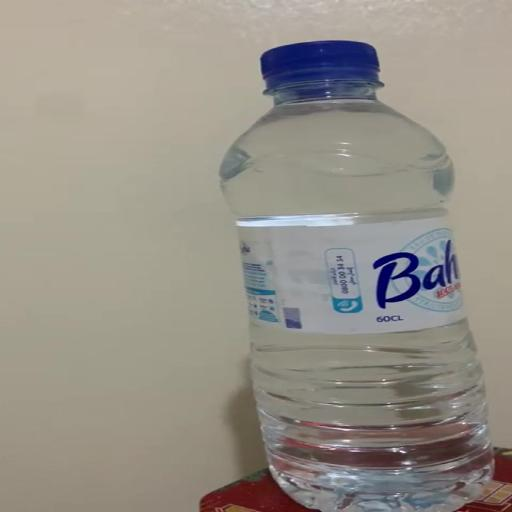bouteille conformite: (177, 27, 507, 512)
